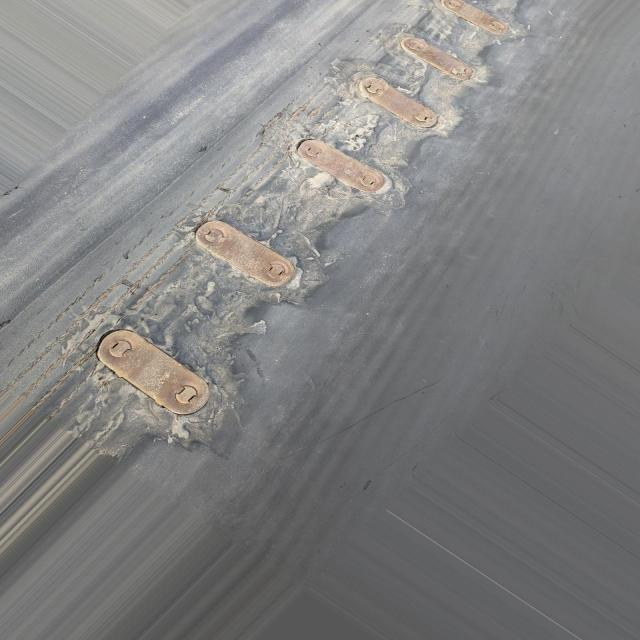patch work: (55, 0, 528, 470)
